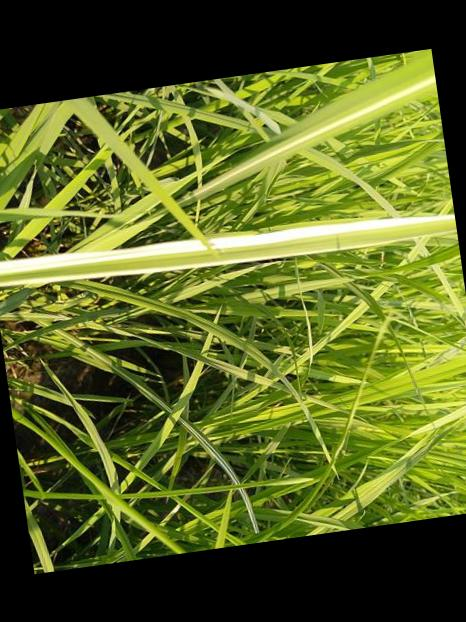Leaf Streak: (0, 211, 457, 286)
